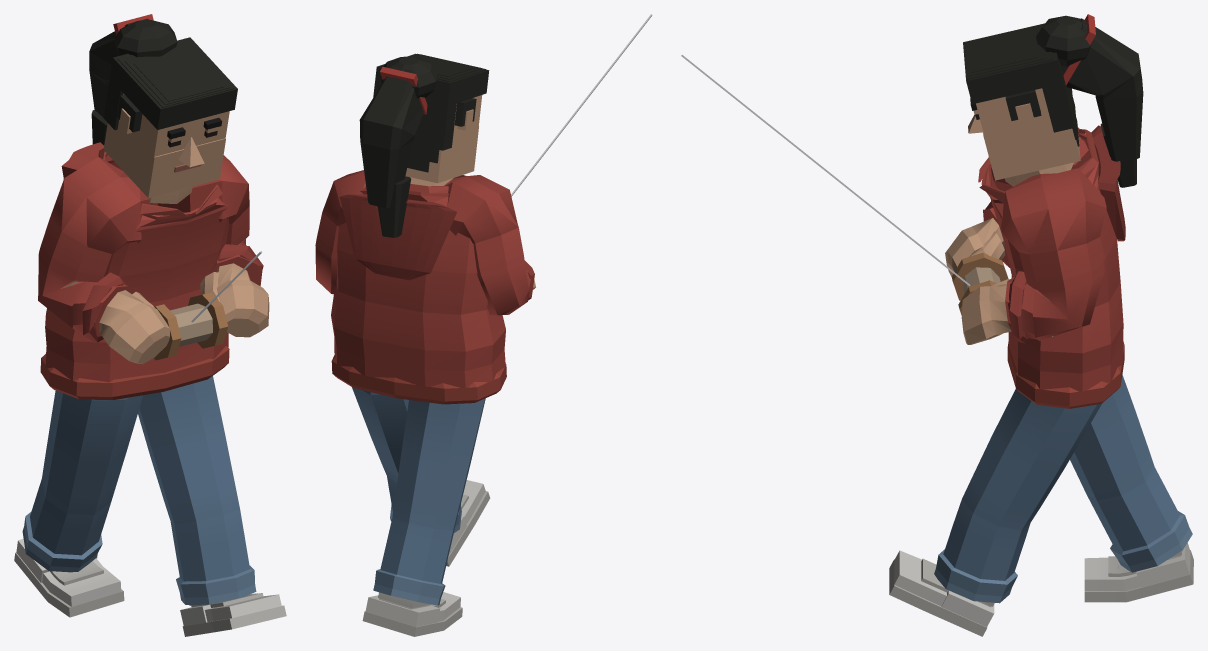
File: kite-kid-0a7d70__walk0.glb
The picture shows the model from 3 angles, left to right: view 1: azimuth 30°, elevation 25°; view 2: azimuth 150°, elevation 25°; view 3: azimuth 270°, elevation 25°; orthographic projection. The views are drawn at different scales.
Parts seen in each view (by area): view 1: kite-kid-0a7d70__walk0; view 2: kite-kid-0a7d70__walk0; view 3: kite-kid-0a7d70__walk0.
Boxes of the visible parts, <box> form: kite-kid-0a7d70__walk0: <box>14,14,286,636</box>; kite-kid-0a7d70__walk0: <box>315,14,652,636</box>; kite-kid-0a7d70__walk0: <box>681,14,1193,636</box>.
Bounding box in the file's own units: 0.4669 × 1.2 × 0.9396.
